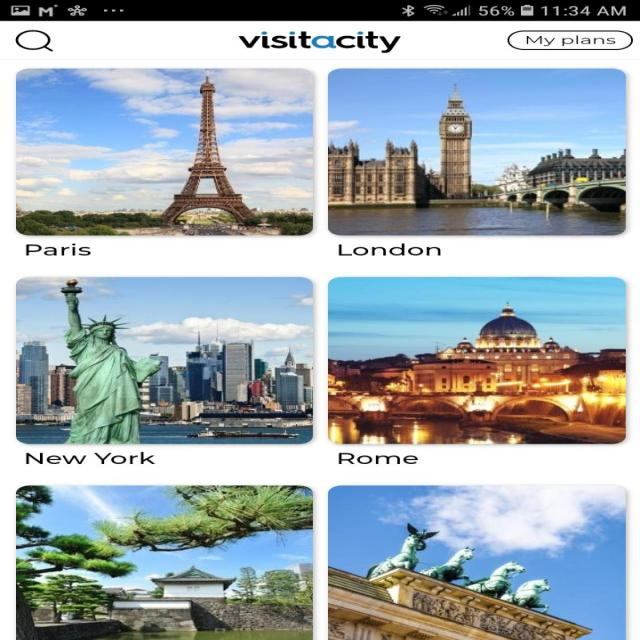Icon: (14, 29, 54, 52)
Image: (327, 68, 625, 236), (327, 276, 625, 444), (16, 68, 313, 236), (16, 276, 313, 444), (327, 485, 625, 640), (16, 485, 313, 640), (237, 31, 401, 53)
Text: (24, 451, 156, 464), (338, 243, 441, 255), (338, 453, 418, 464), (25, 243, 91, 256)
TextButton: (507, 30, 633, 50)
